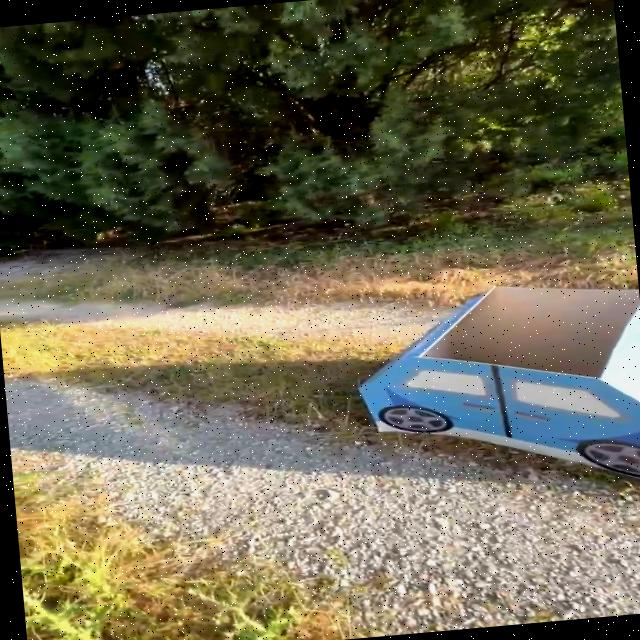blue_car: (277, 221, 640, 542)
